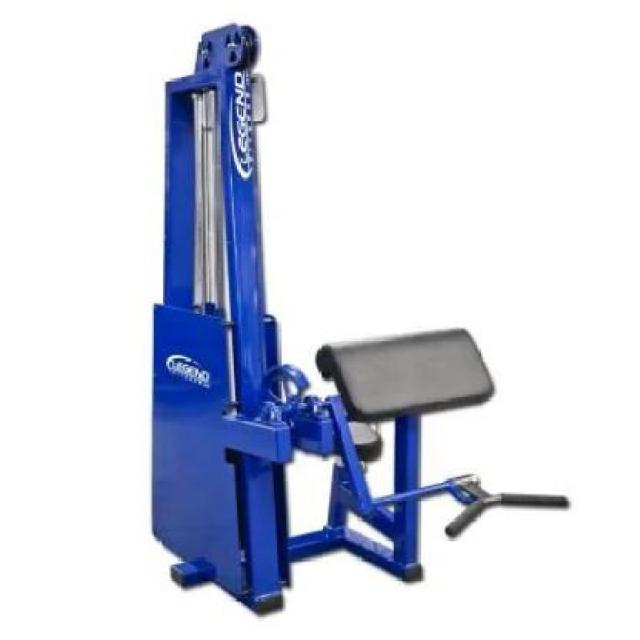arm curl machine: (146, 23, 574, 620)
